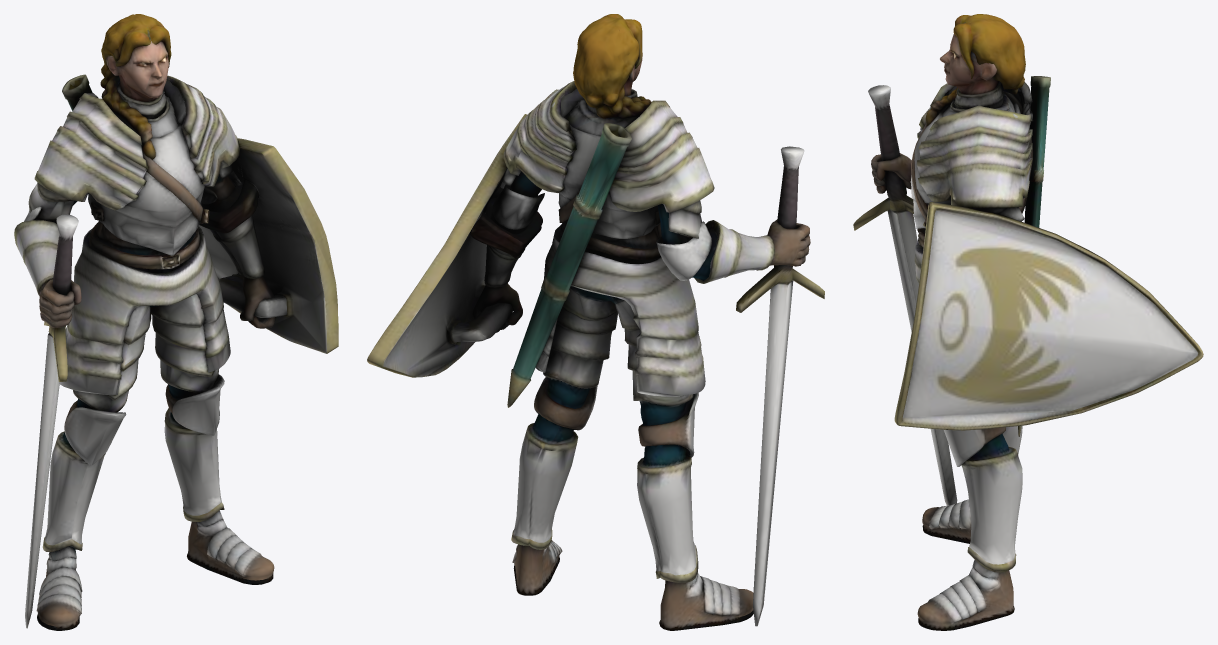
The model's file is MZ4250 - Human Female Paladin 4e.glb.
The picture shows the model from 3 angles, left to right: view 1: azimuth 30°, elevation 25°; view 2: azimuth 150°, elevation 25°; view 3: azimuth 270°, elevation 25°; orthographic projection. The views are drawn at different scales.
Visible parts, largest first — view 1: Human Female Paladin 4.001; view 2: Human Female Paladin 4.001; view 3: Human Female Paladin 4.001.
Boxes of the visible parts, x1,y1,x2,y2 form: Human Female Paladin 4.001: (14, 14, 338, 630); Human Female Paladin 4.001: (367, 14, 824, 630); Human Female Paladin 4.001: (853, 14, 1203, 630).
Bounding box in the file's own units: 19.77 × 35.34 × 19.9.
1 material, 1 textured.
